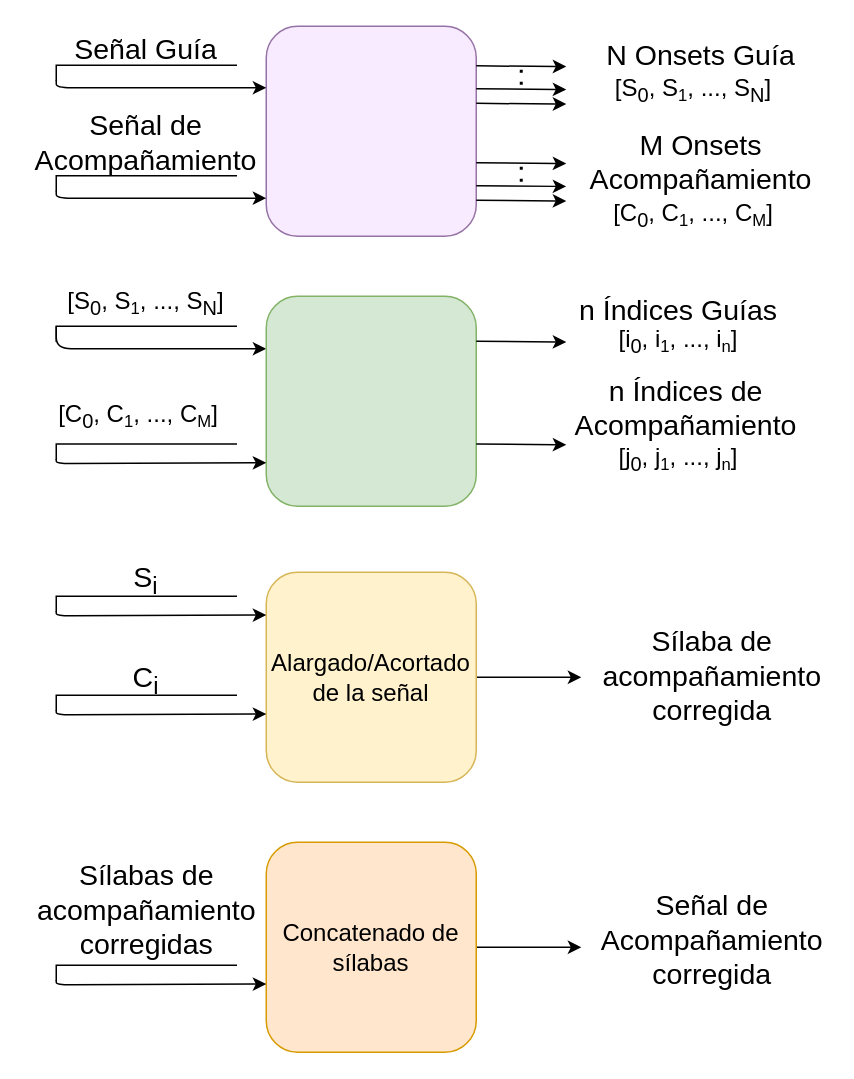
This 854x1079 diagram has some shape labels left out. The centre of each missing label's shape, as x and y in pixels:
"Detección de Sílabas" goes at point 370,130.
"Mapeo de índices con DTW (quizás agregar markov)" goes at point 370,400.
